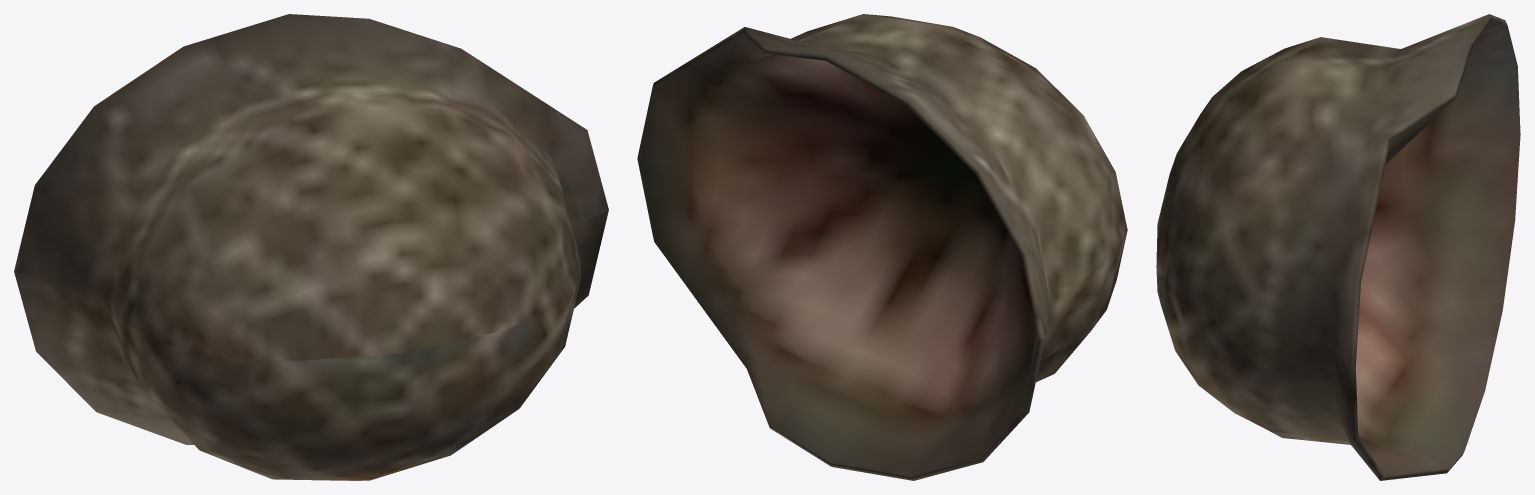
Rendered from helmet_german_normandy_coat_dark.glb.
3 renders of one model, left to right at view 1: azimuth 30°, elevation 25°; view 2: azimuth 150°, elevation 25°; view 3: azimuth 270°, elevation 25°, orthographic. The views are drawn at different scales.
Size of the model in its own units: 12.39 by 10 by 7.99.
1 material, 1 textured.
